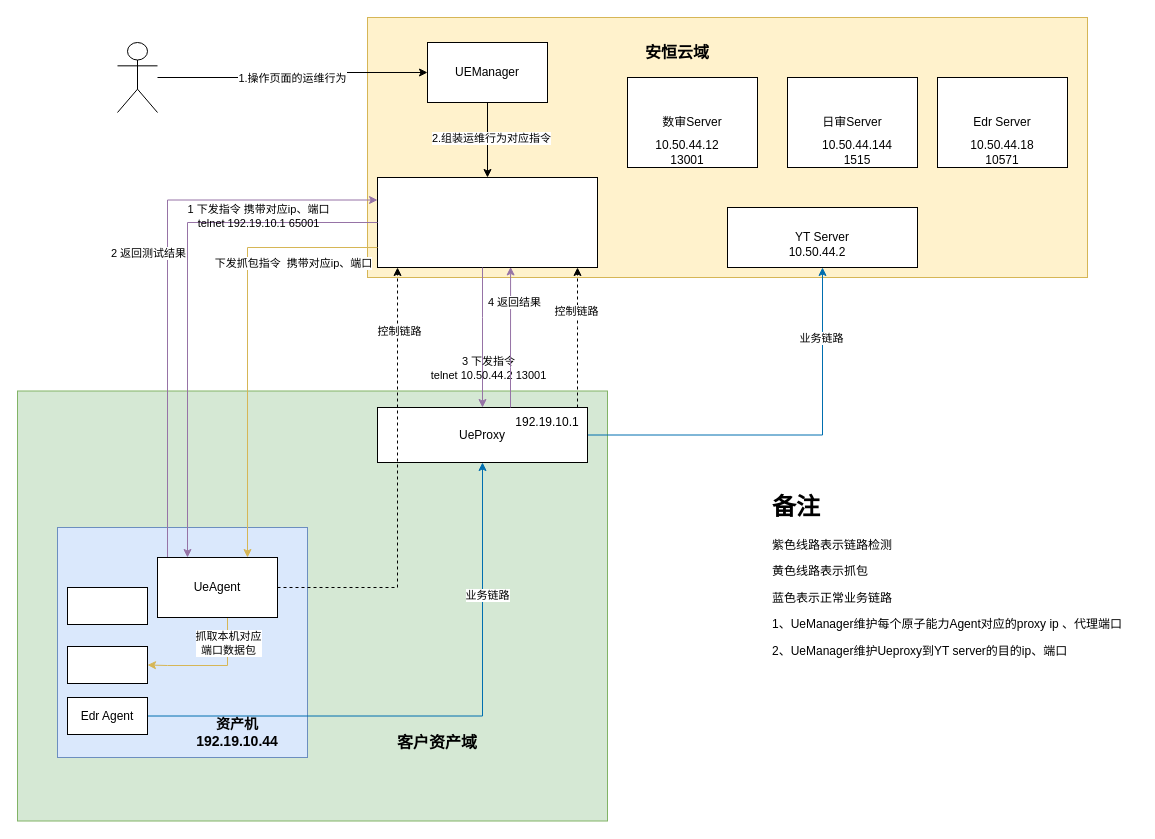
This 1155x839 diagram has some shape labels left out. Here are the shapes that lost their labels. From the top down, the centre of each, then its label:
At pixel 137 77: "运维人员".
At pixel 487 222: "UEServer".
At pixel 107 605: "日审Agent".
At pixel 107 665: "数审Agent".
